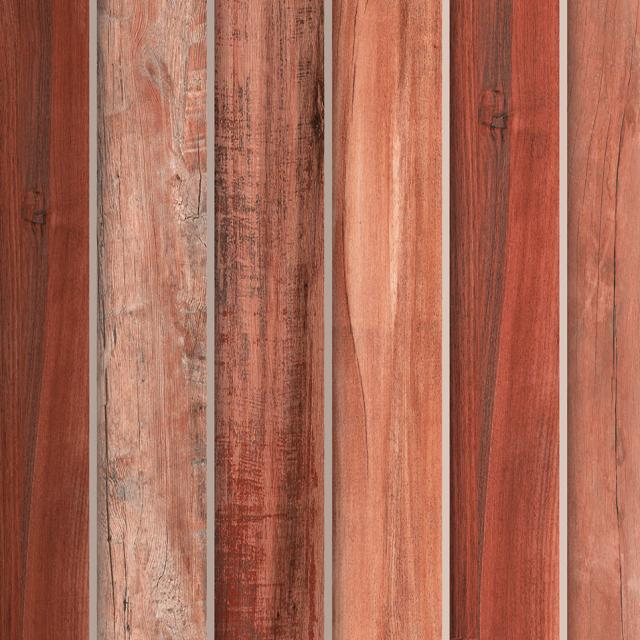perfect-wooden-plate: (215, 0, 323, 640), (333, 0, 441, 640), (451, 0, 559, 640), (98, 0, 205, 640), (567, 0, 640, 640)
